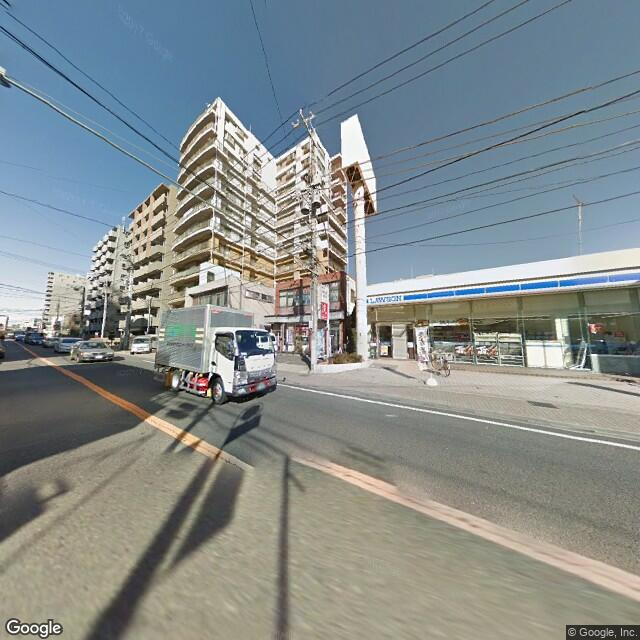lawson: (368, 261, 639, 316)
